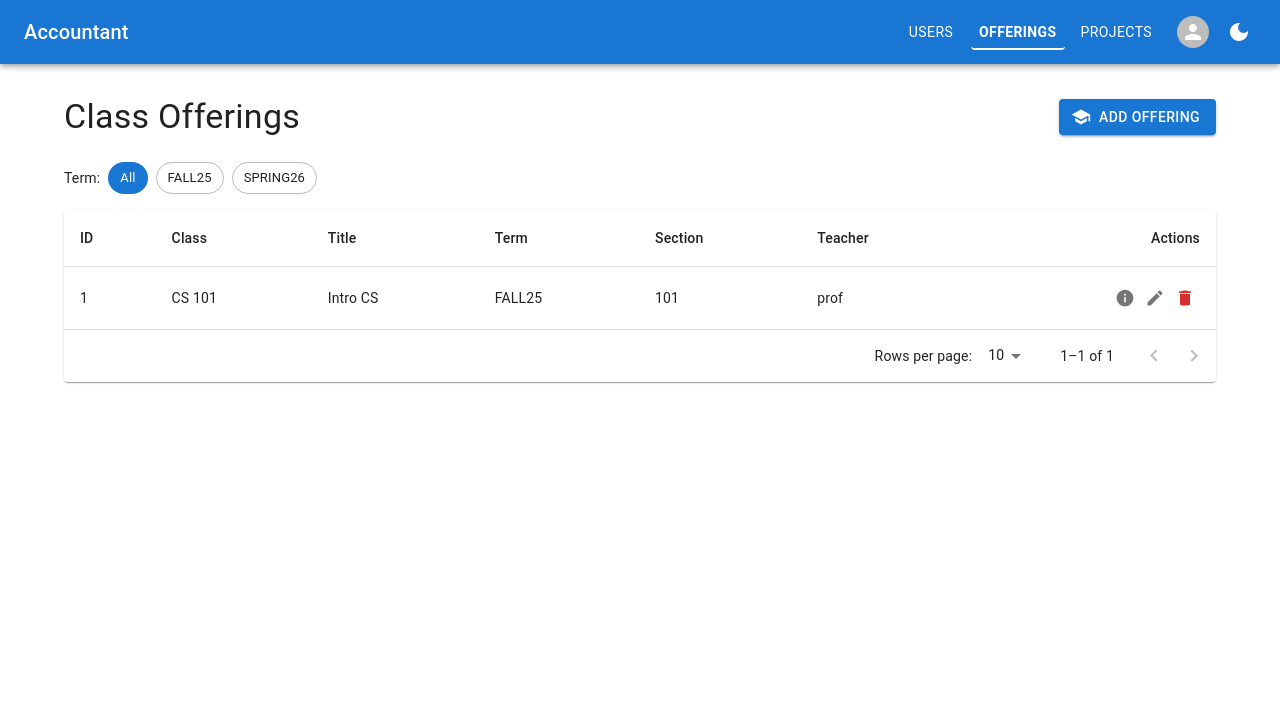
it: Offerings page › opens the create modal from the Add Offering button
Expected: the heading "Class Offerings" is shown, left=64, top=96, right=300, bottom=138
Click the button "Add Offering".
click(1137, 117)  # box left=1059, top=99, right=1216, bottom=135
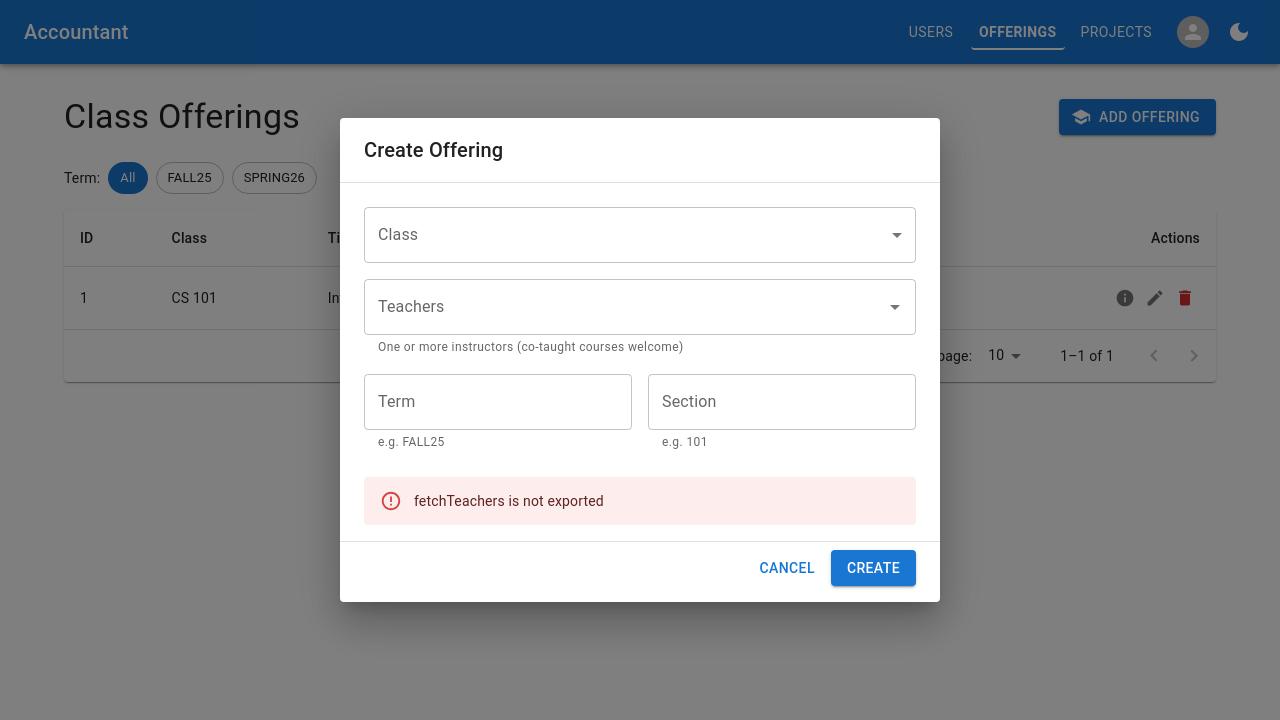
Expected: the heading "Create Offering" is shown, left=364, top=138, right=503, bottom=162
